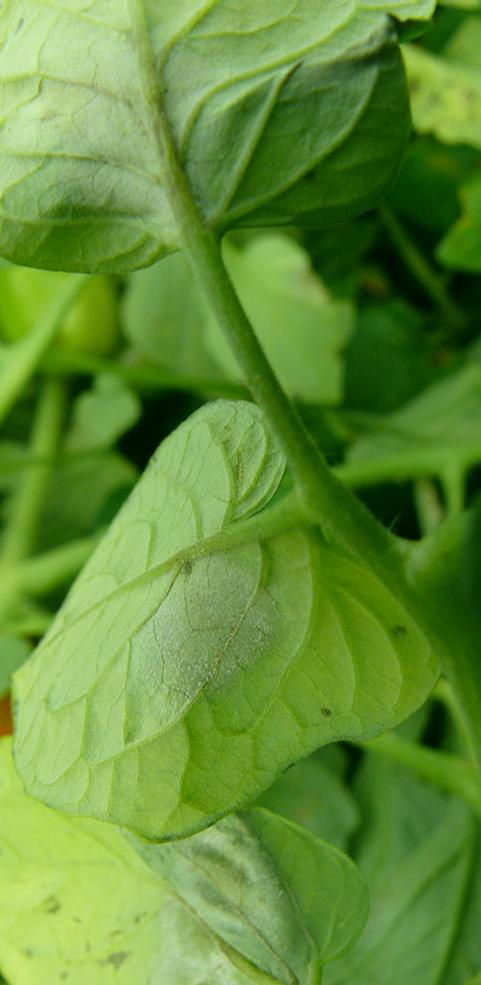Tomato leaf late blight: (12, 388, 446, 824), (0, 0, 459, 270), (0, 725, 429, 985)
